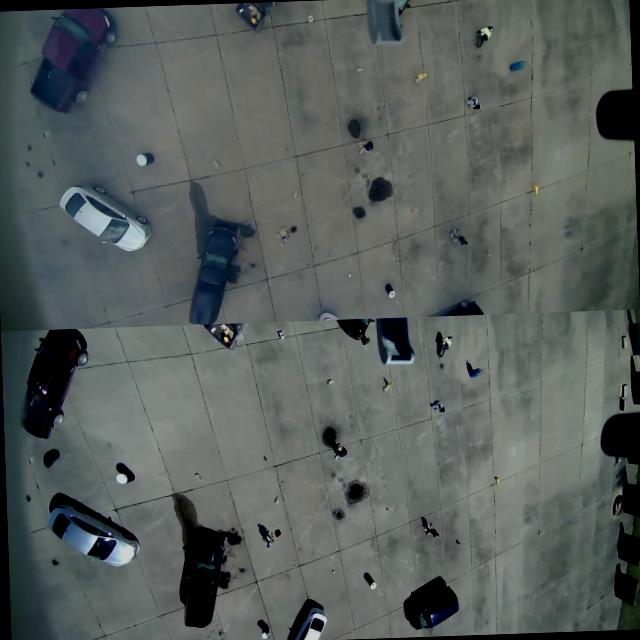bike: (429, 398, 444, 413)
car: (45, 180, 169, 260), (14, 329, 95, 447), (43, 486, 148, 574), (188, 213, 242, 325), (181, 522, 219, 632), (410, 586, 466, 632), (289, 600, 332, 640)
truck: (20, 7, 121, 125)
